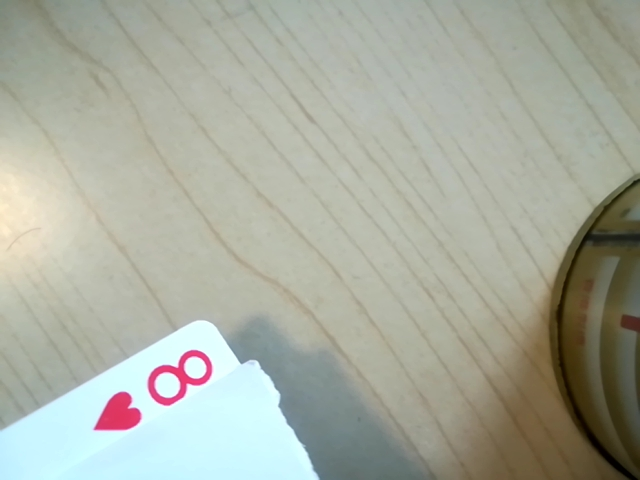hx 8: (99, 345, 228, 429)
